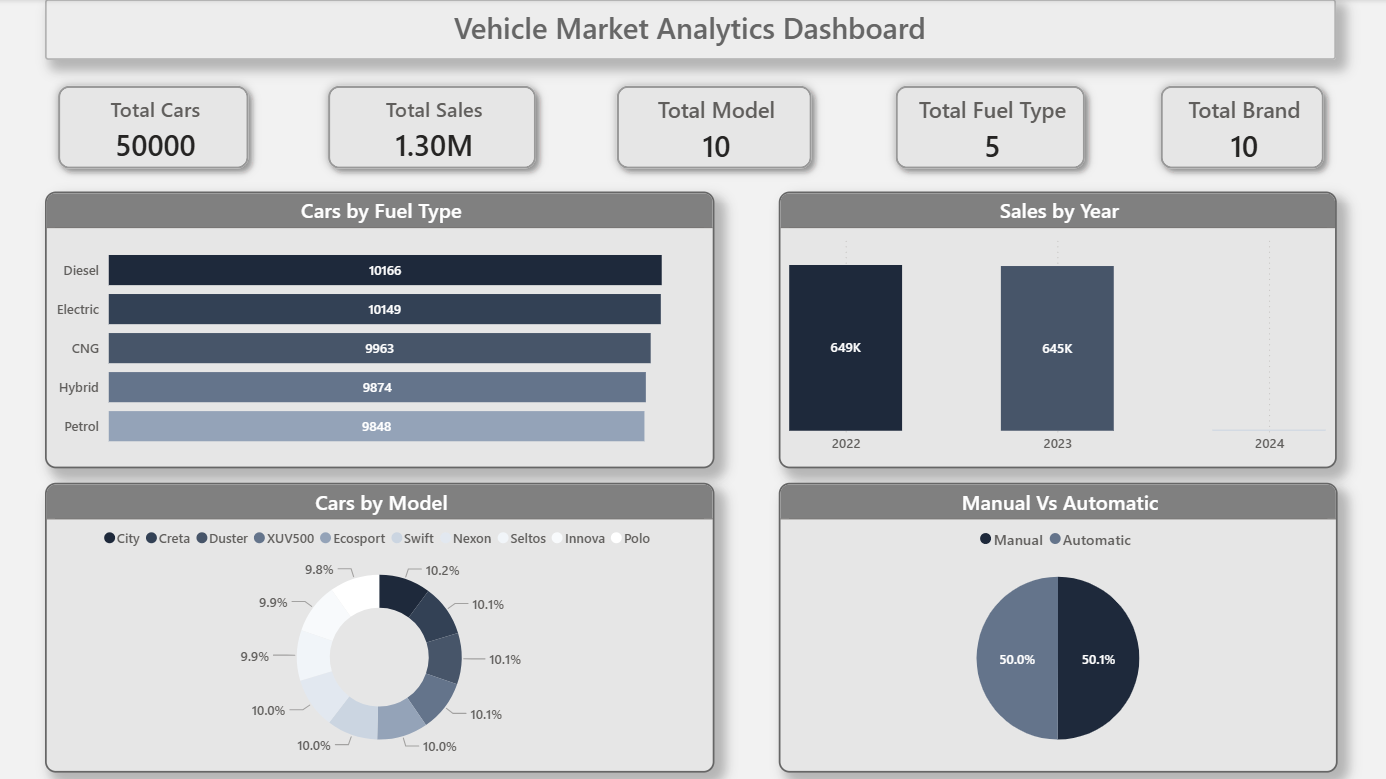

This screenshot's page, from the dashboard's own definition file:
{"tool":"powerbi","page":{"name":"Dashboard","canvas":[1280,720],"ordinal":0},"visuals":[{"type":"cardVisual","fields":{"Data":["Count(car master_car_data.Car_ID)"]},"box":[41.9,67.4,199.9,100],"z":0},{"type":"cardVisual","fields":{"Data":["Sum(car master_car_data.Sale_Price_Lakh)"]},"box":[289.5,67.4,215.1,100],"z":1},{"type":"cardVisual","fields":{"Data":["Count(car master_car_data.Brand)"]},"box":[1054.2,67.4,174.9,100],"z":2},{"type":"cardVisual","fields":{"Data":["Count(car master_car_data.Fuel_Type)"]},"box":[811.5,67.4,198.7,100],"z":3},{"type":"cardVisual","fields":{"Data":["Count(car master_car_data.Model)"]},"box":[554.7,67.4,203.5,100],"z":4},{"type":"barChart","title":"Cars by Fuel Type","fields":{"Category":["car master_car_data.Fuel_Type"],"Y":["Count(car master_car_data.Car_ID)"]},"box":[41.9,176.7,615.1,254.7],"z":5},{"type":"columnChart","title":"Sales by Year","fields":{"Y":["Sum(car master_car_data.Sale_Price_Lakh)"],"Category":["car master_car_data.Sale_Date.Variation.Date Hierarchy.Year"]},"box":[715.1,176.7,512.8,254.7],"z":7},{"type":"donutChart","title":"Cars by Model","fields":{"Category":["car master_car_data.Model"],"Y":["CountNonNull(car master_car_data.Car_ID)"]},"box":[41.9,444.2,615.1,266.3],"z":8},{"type":"pieChart","title":"Manual Vs Automatic","fields":{"Category":["car master_car_data.Transmission"],"Y":["CountNonNull(car master_car_data.Car_ID)"]},"box":[715.1,444.2,514,266.3],"z":9},{"type":"textbox","box":[41.9,0,1186,55.8],"z":11}]}

Visuals, with their boxes in screenshot pixels (x1, y1, x2, y2), scaled from the page's 1280x720 canvas onto the 1386x779 screenshot:
cardVisual - Count(car master_car_data.Car_ID): Rect(45, 73, 262, 181)
cardVisual - Sum(car master_car_data.Sale_Price_Lakh): Rect(313, 73, 546, 181)
cardVisual - Count(car master_car_data.Brand): Rect(1142, 73, 1331, 181)
cardVisual - Count(car master_car_data.Fuel_Type): Rect(879, 73, 1094, 181)
cardVisual - Count(car master_car_data.Model): Rect(601, 73, 821, 181)
"Cars by Fuel Type" barChart: Rect(45, 191, 711, 467)
"Sales by Year" columnChart: Rect(774, 191, 1330, 467)
"Cars by Model" donutChart: Rect(45, 481, 711, 769)
"Manual Vs Automatic" pieChart: Rect(774, 481, 1331, 769)
textbox: Rect(45, 0, 1330, 60)
